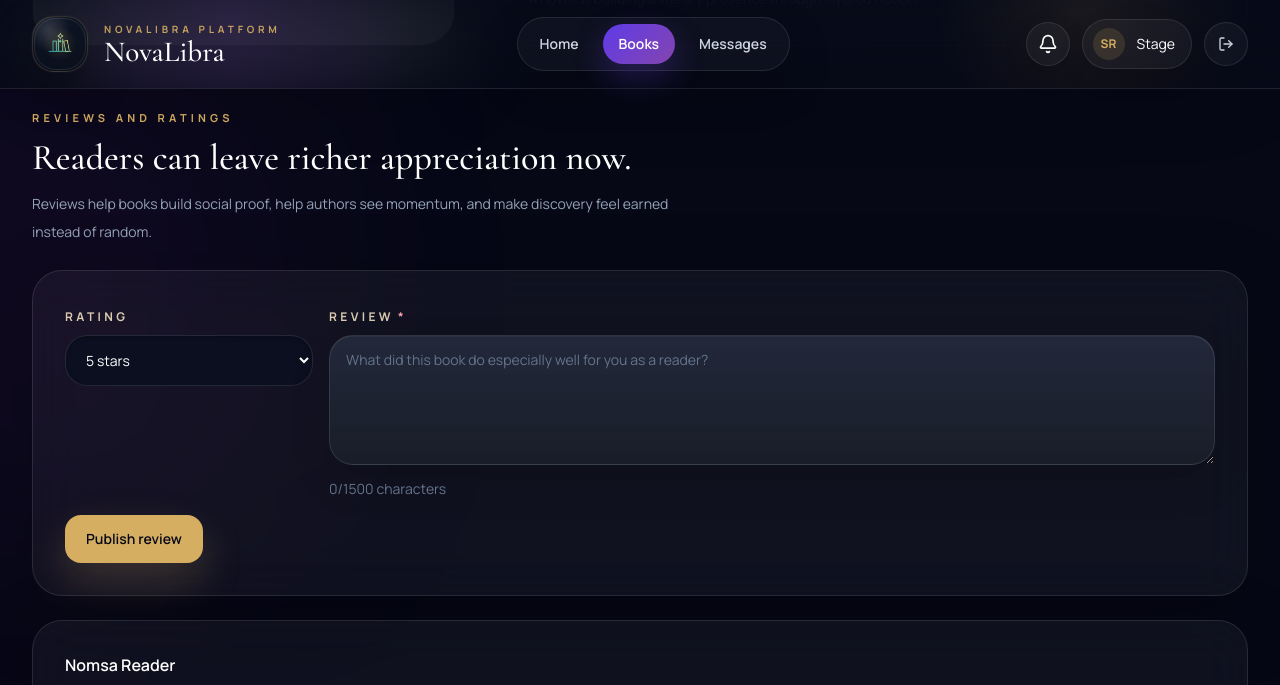
Test case: Engagement system experience › reader can publish, update, and delete a review on the same book
(page scrolled)
Expected: the text "Reviews and ratings" is shown, [32,110,234,124]
In the text box with placeholder "What did this book do especially well for you as a reader?": (772, 400) [329,335,1215,465], type "This review proves the Stage 9 engagement gate can publish thoughtful feedback."
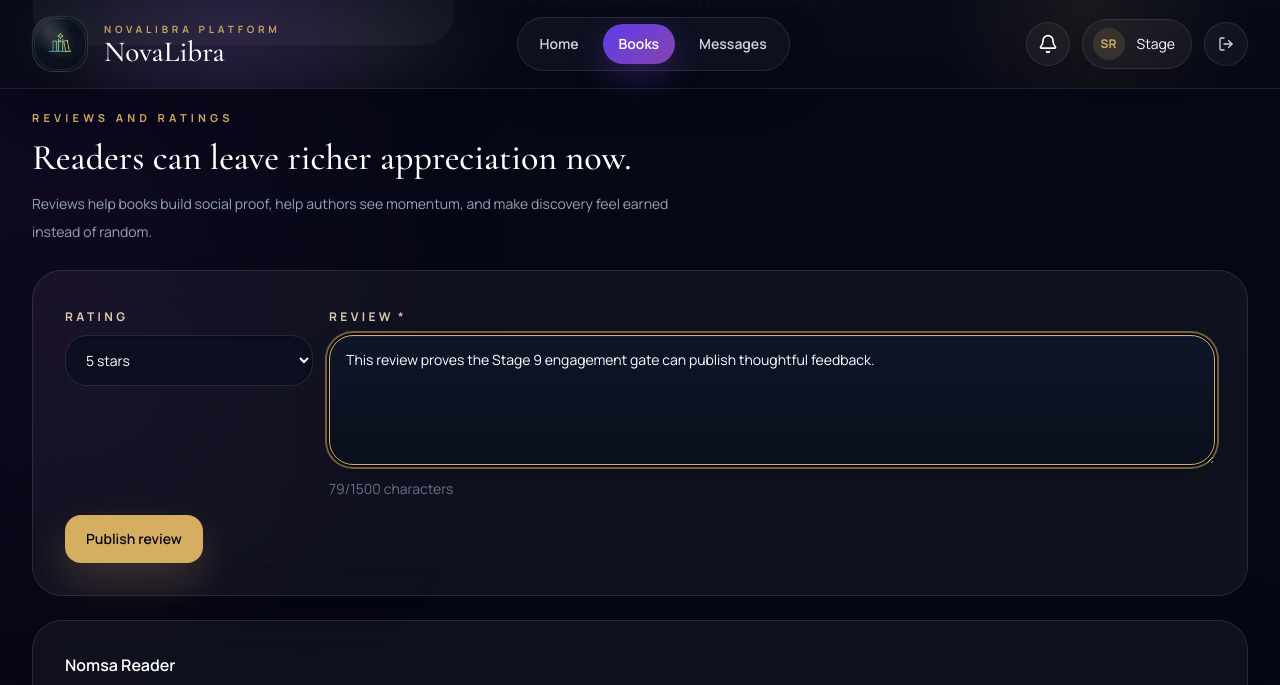
Click the button "Publish review": (134, 539) [65,515,203,563]
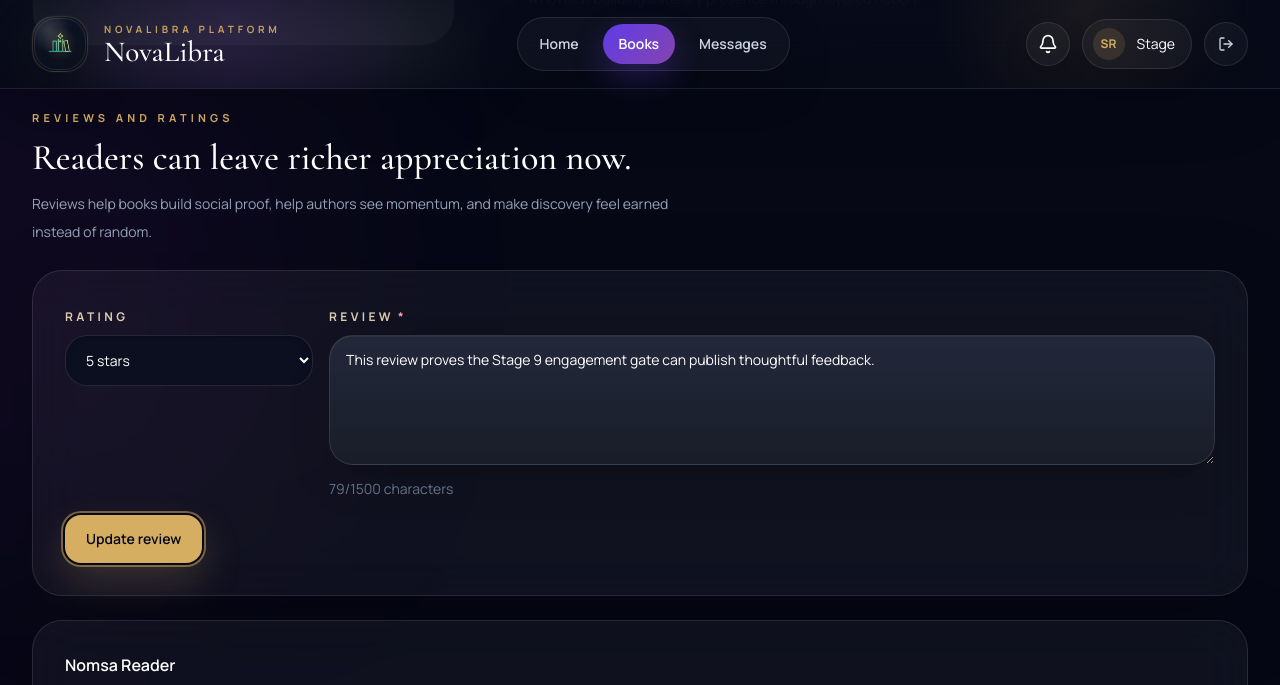
Now the button "Update review" is shown, box [65,515,202,563]
Replace the text in the text box "this review proves the stage 9 engagement gate" with "This updated review proves the same reader stays on a single review record.": (772, 400) [329,335,1215,465]
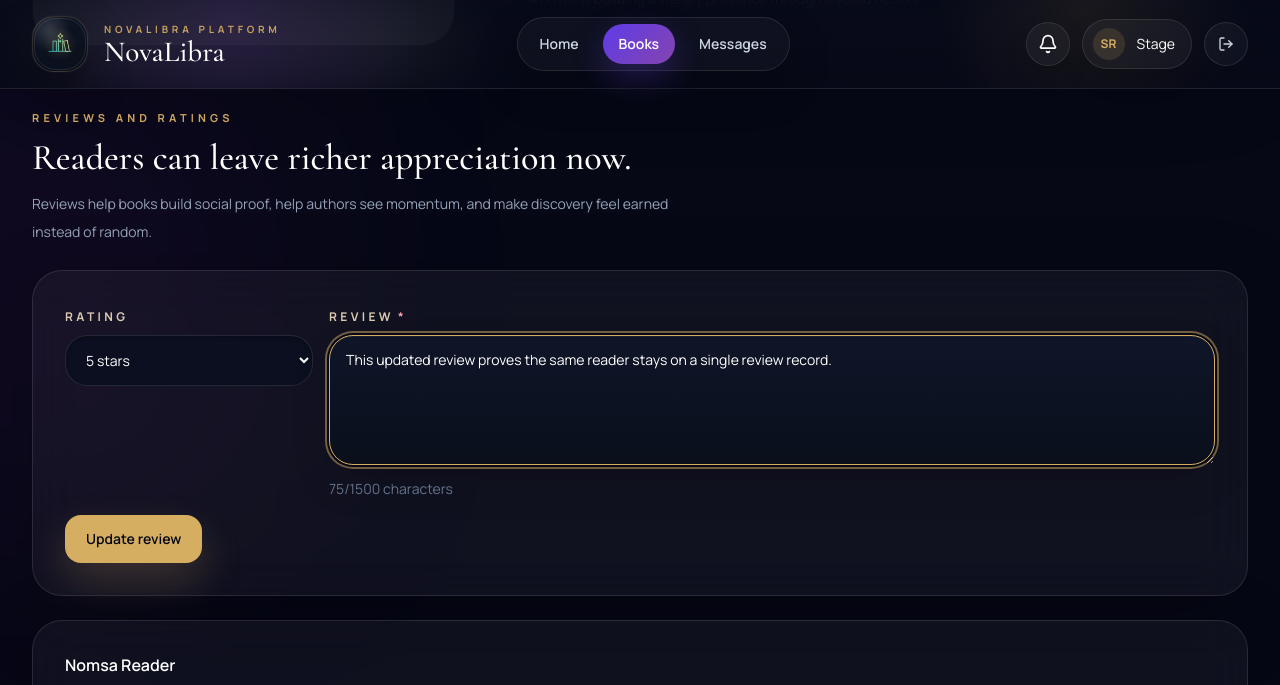
Click the button "Update review": (134, 539) [65,515,202,563]
(page scrolled)
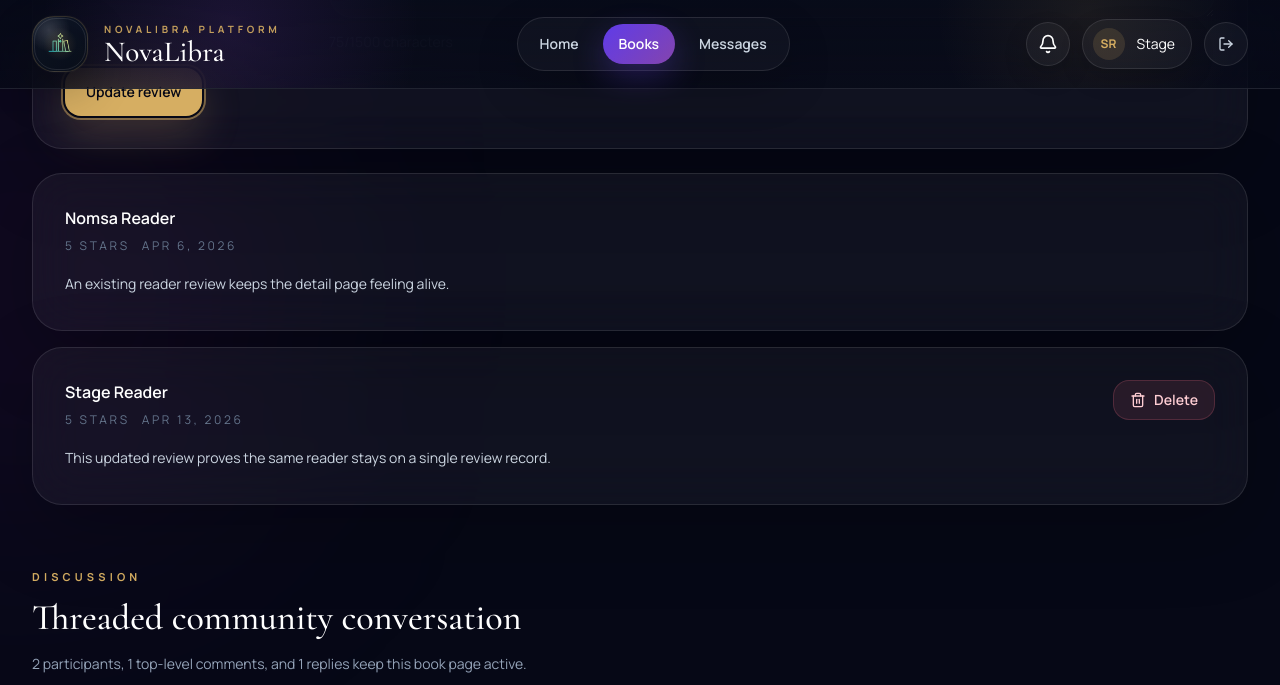
Click the button "Delete": (1164, 400) [1113,380,1215,420]
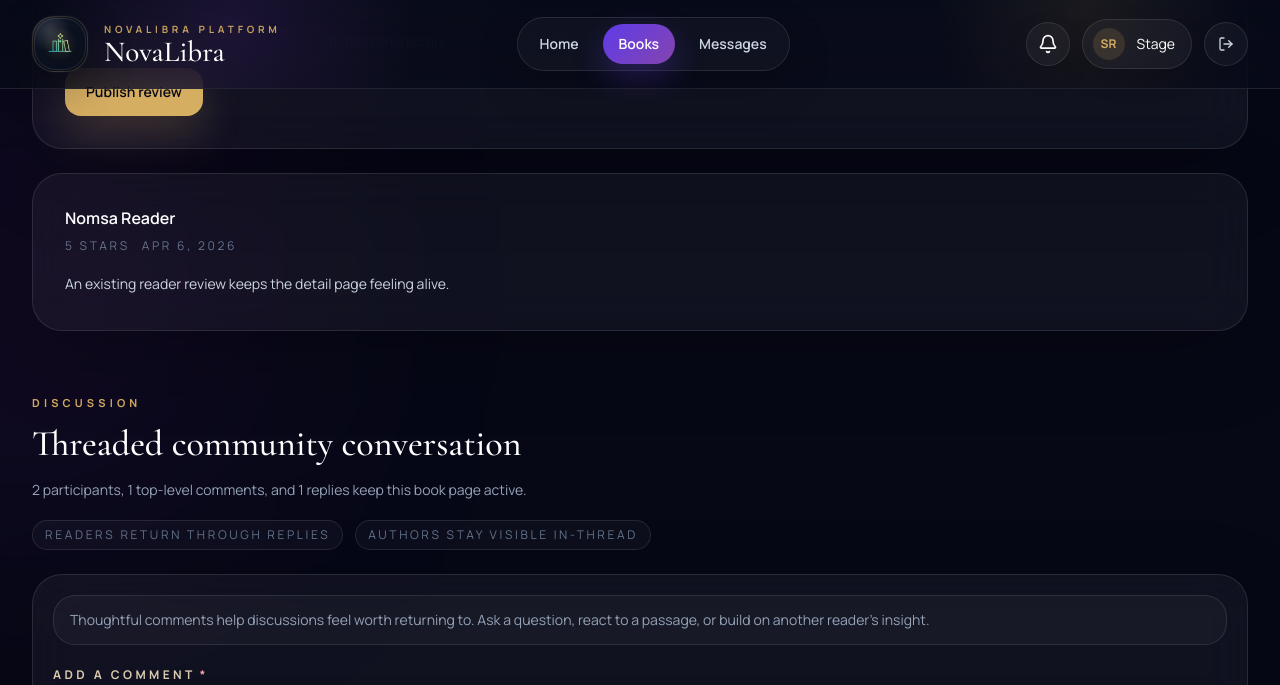
Now the text "This updated review proves the same reader" is not shown
